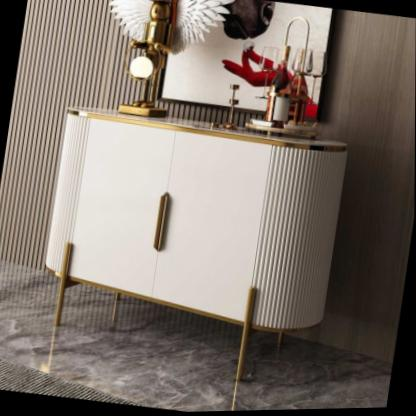Ceramic floor: (0, 266, 392, 413)
Sideboard: (44, 109, 350, 384)
